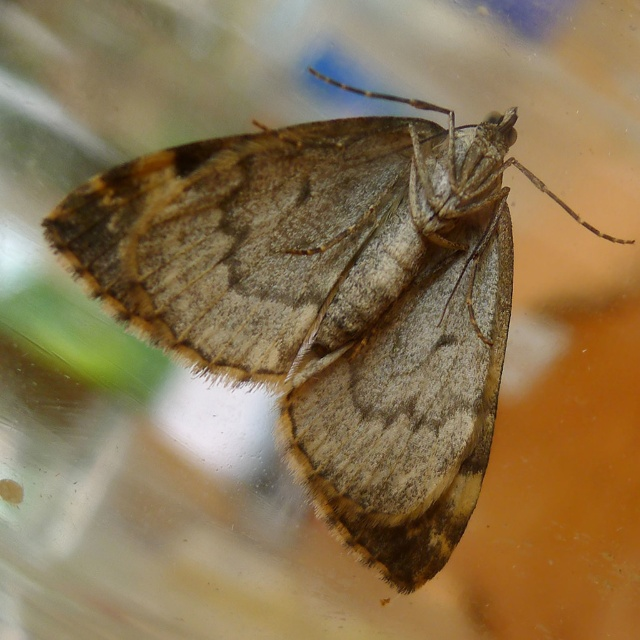Butterfly: (34, 42, 567, 575)
